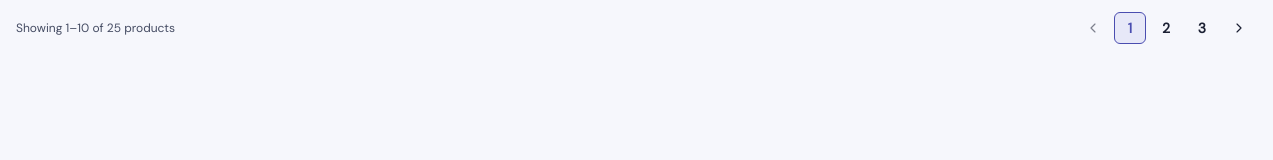
Test: PaginationComponent › moves between pages and updates the summary
What coordinates should you click on to do the following:
click the button named "Next page"
I would click on:
 (1239, 28)
Its box is [1222,12,1256,44].
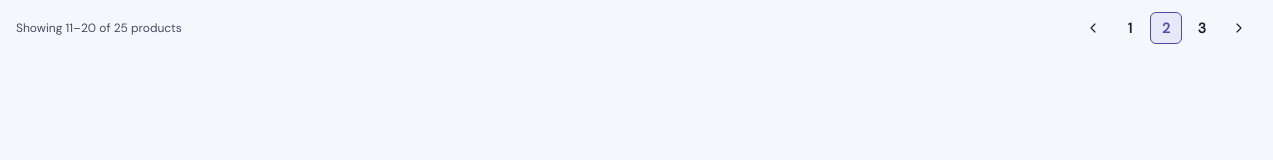
Check: the text "Showing 11–20 of 25 products" is shown, box [16,20,182,36]
